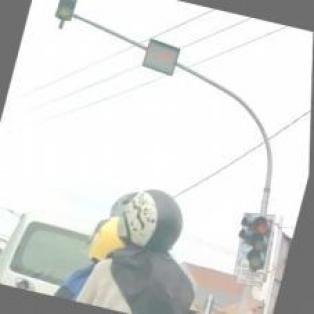Semoforo Rojo: (246, 216, 278, 271), (53, 0, 83, 22)
